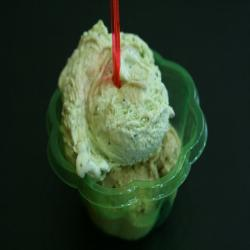icecream: (26, 37, 231, 224)
